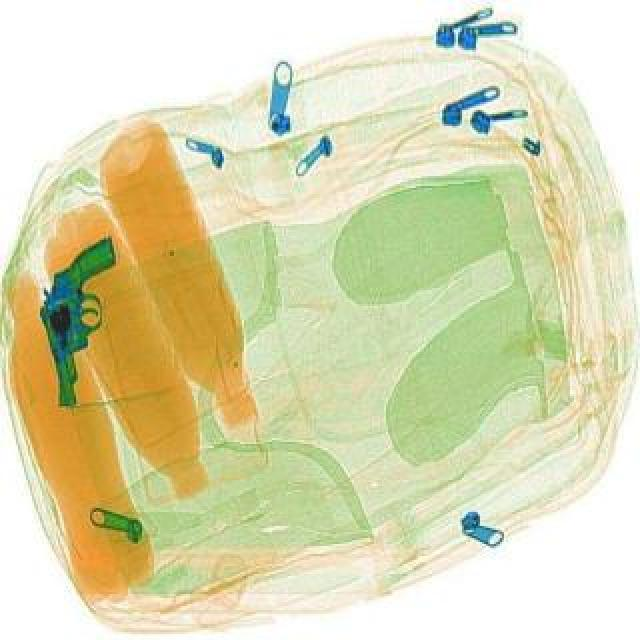gun: (22, 232, 150, 414)
